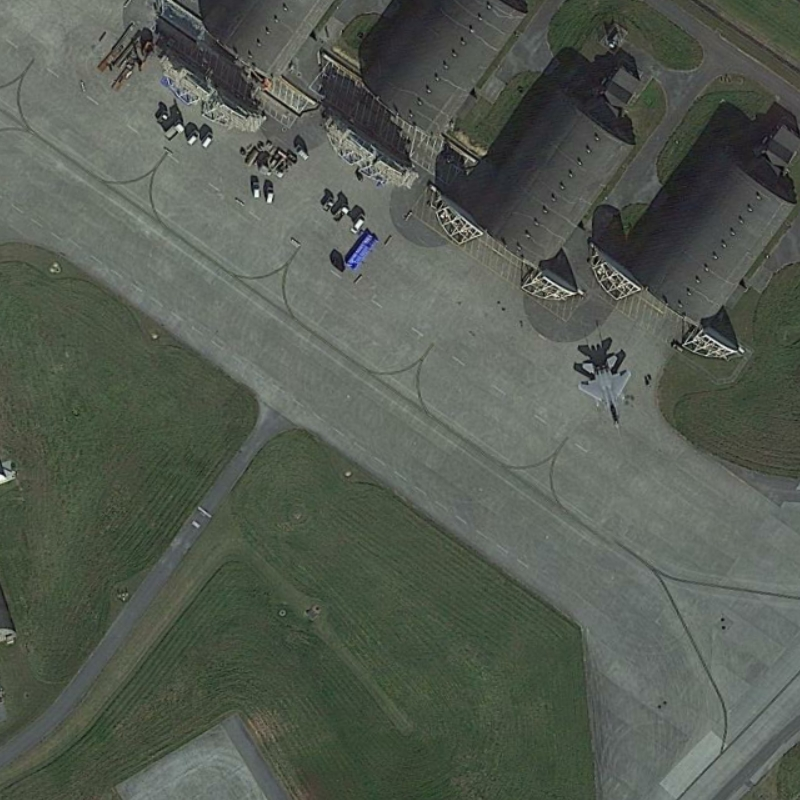A13: (572, 353, 637, 437)
